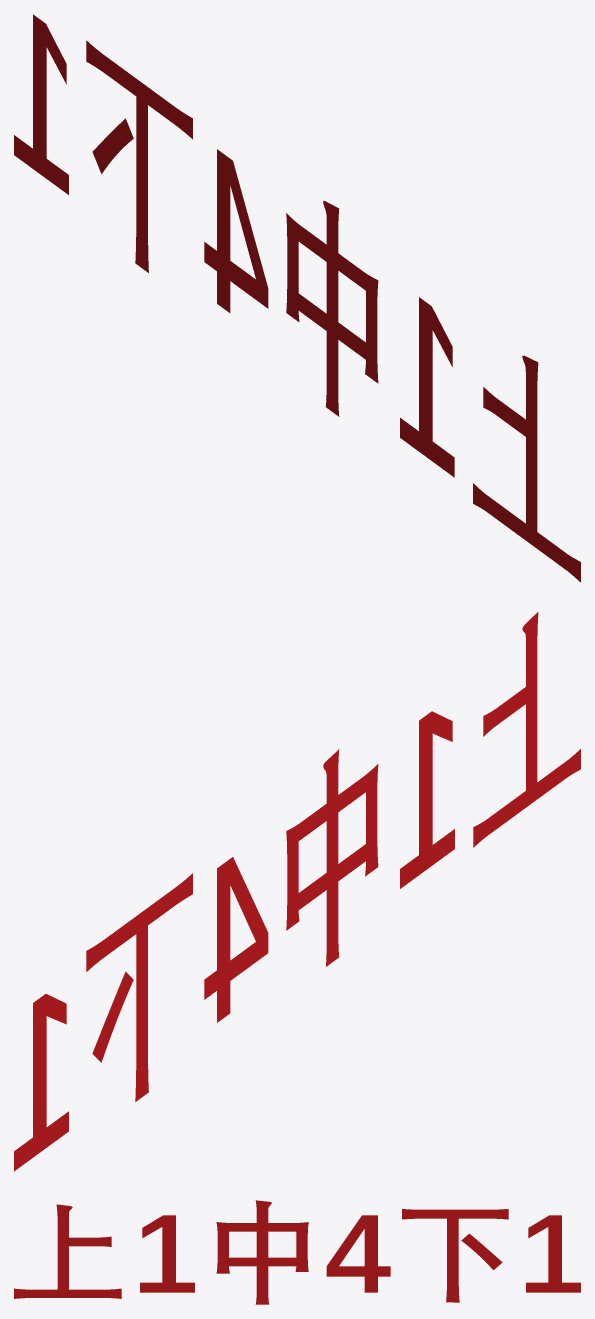
3 views of the same model, one above another, from view 1: azimuth 30°, elevation 25°; view 2: azimuth 150°, elevation 25°; view 3: azimuth 270°, elevation 25° (orthographic). The views are drawn at different scales.
Visible parts, largest first — view 1: Text; view 2: Text; view 3: Text.
Part boxes in pixels (<box>): Text: <box>14,14,580,582</box>; Text: <box>14,612,580,1171</box>; Text: <box>14,1200,580,1304</box>.
Bounding box in the file's own units: 0.0857 × 76.13 × 375.
